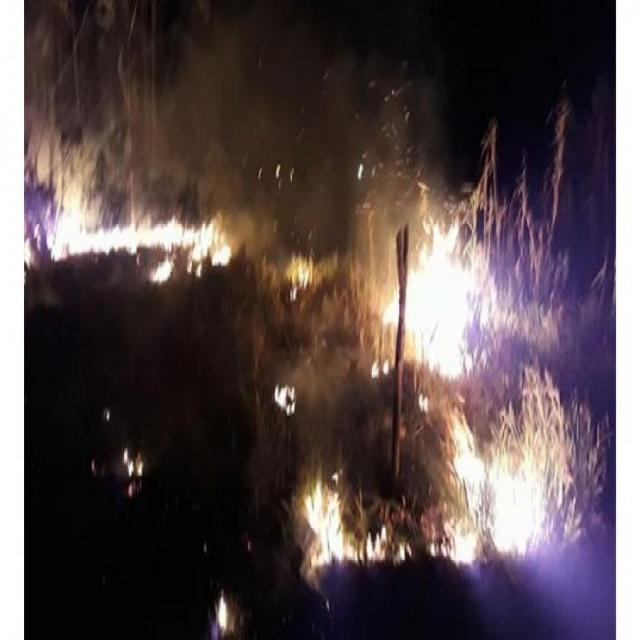Fire: (25, 178, 236, 278), (381, 213, 494, 380), (434, 412, 546, 568), (294, 469, 408, 568), (288, 250, 312, 300), (272, 380, 298, 415), (121, 446, 146, 479), (212, 590, 232, 630)
